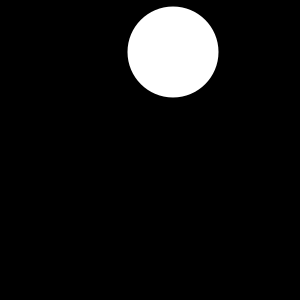rectangle: (128, 6, 218, 98)
